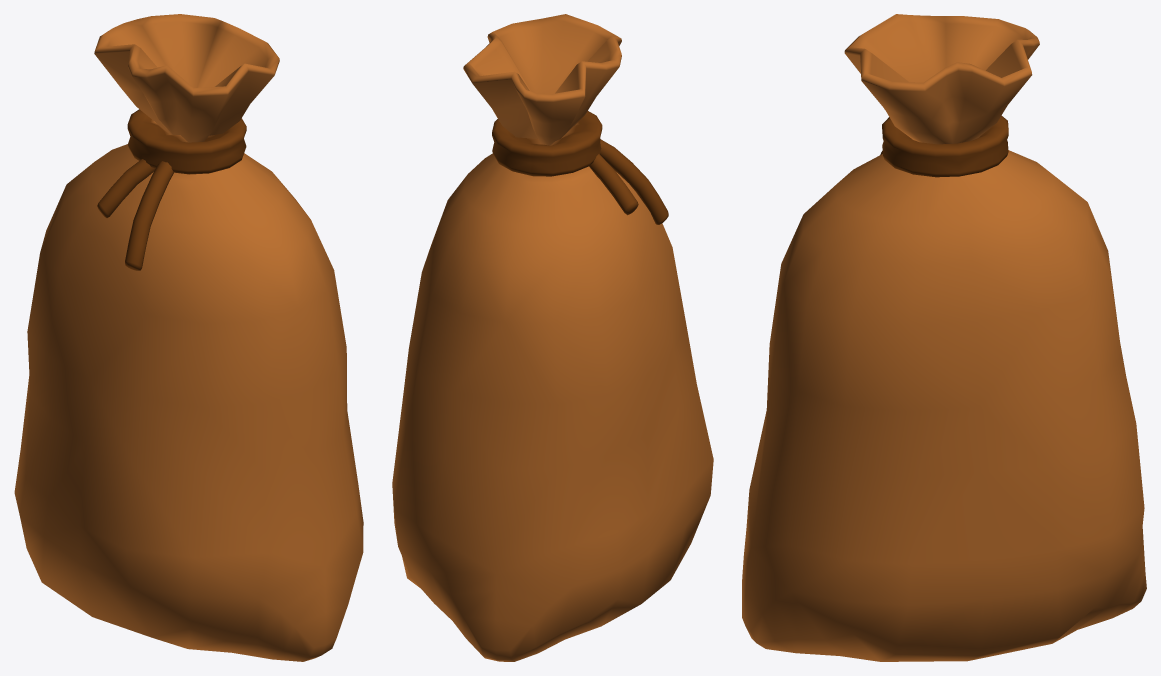
File: sack.fbx
The picture shows the model from 3 angles, left to right: view 1: azimuth 30°, elevation 25°; view 2: azimuth 150°, elevation 25°; view 3: azimuth 270°, elevation 25°; orthographic projection. The views are drawn at different scales.
Visible parts, largest first — view 1: SM_Sack01_1; view 2: SM_Sack01_1; view 3: SM_Sack01_1.
Part boxes in pixels (x1,y1,x2,y2): SM_Sack01_1: (14, 14, 363, 661); SM_Sack01_1: (392, 14, 713, 661); SM_Sack01_1: (742, 14, 1146, 661).
Size of the model in its own units: 42.9 by 89.47 by 55.52.
1 material, 1 textured.
